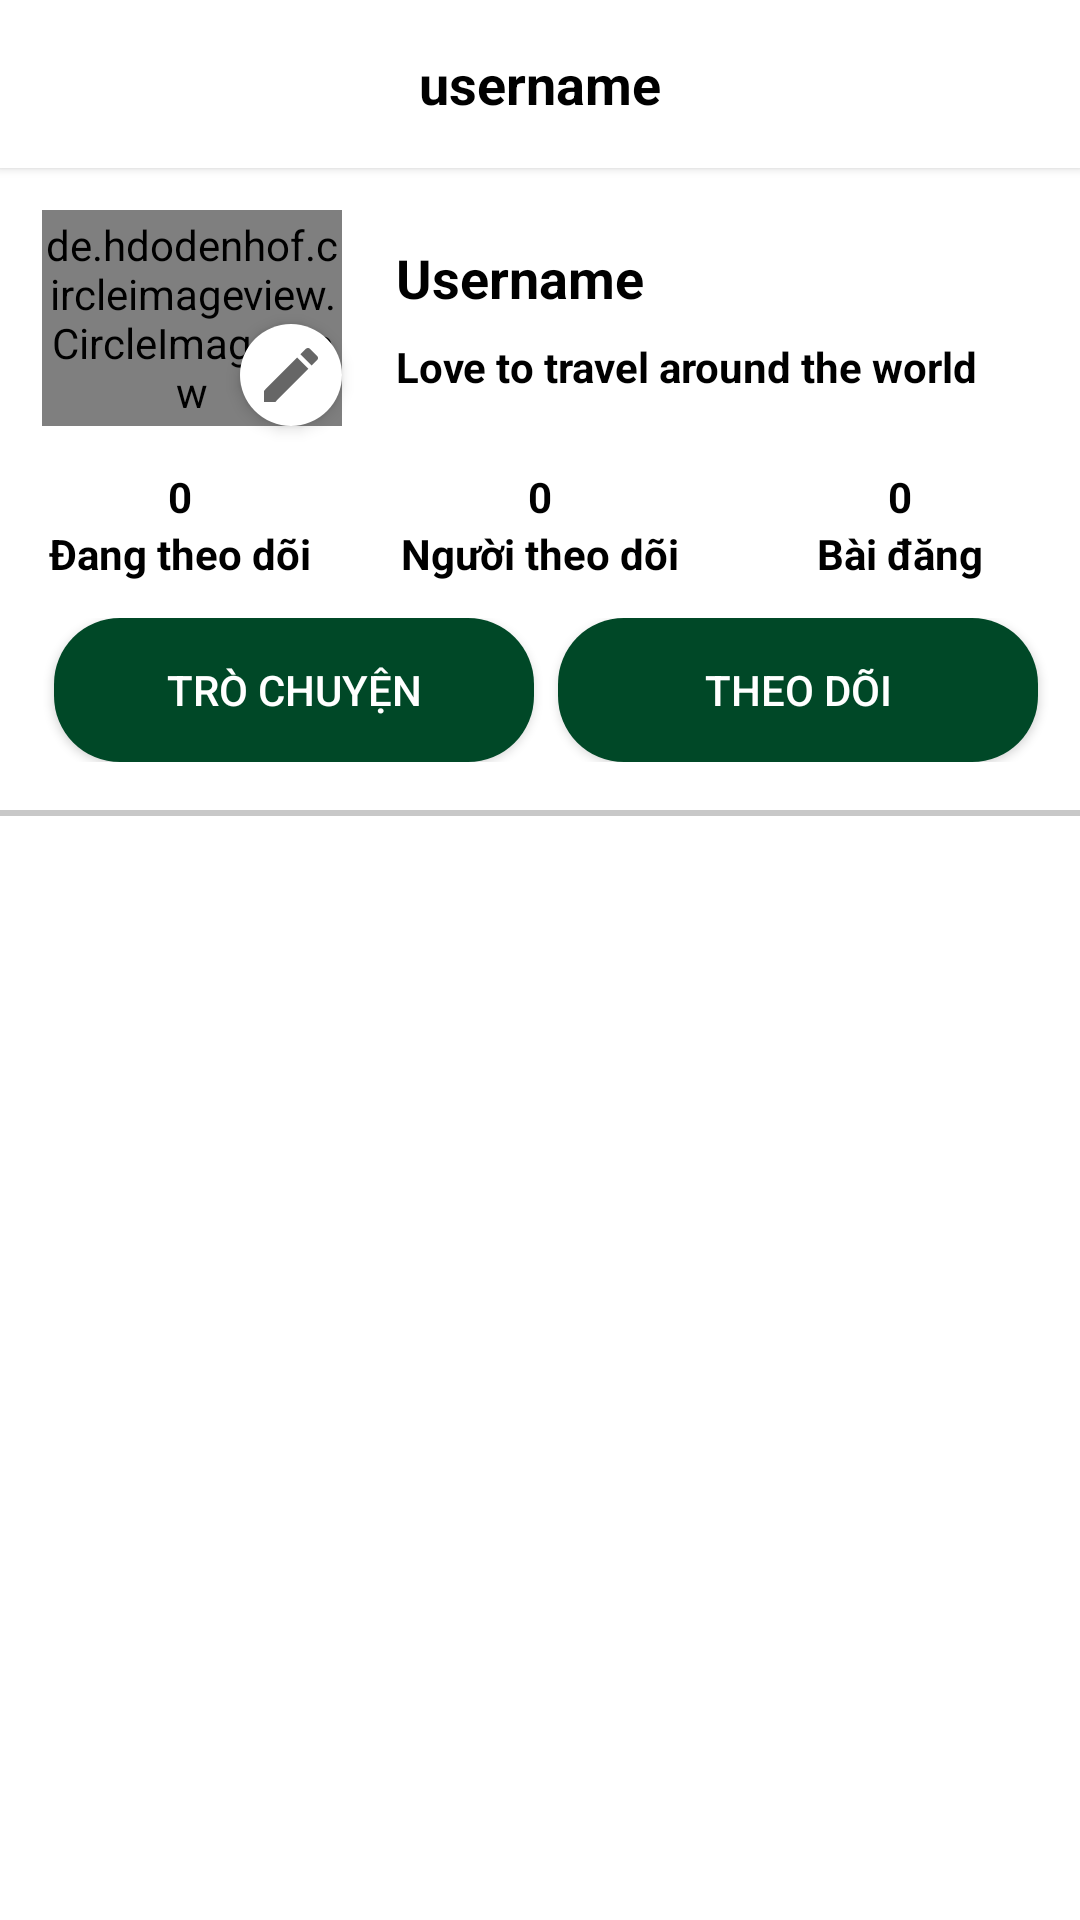

Screen size 1080w x 1920h. Icon name, then its center in pixels as (x=x, y=y):
edit: (x=291, y=375)
